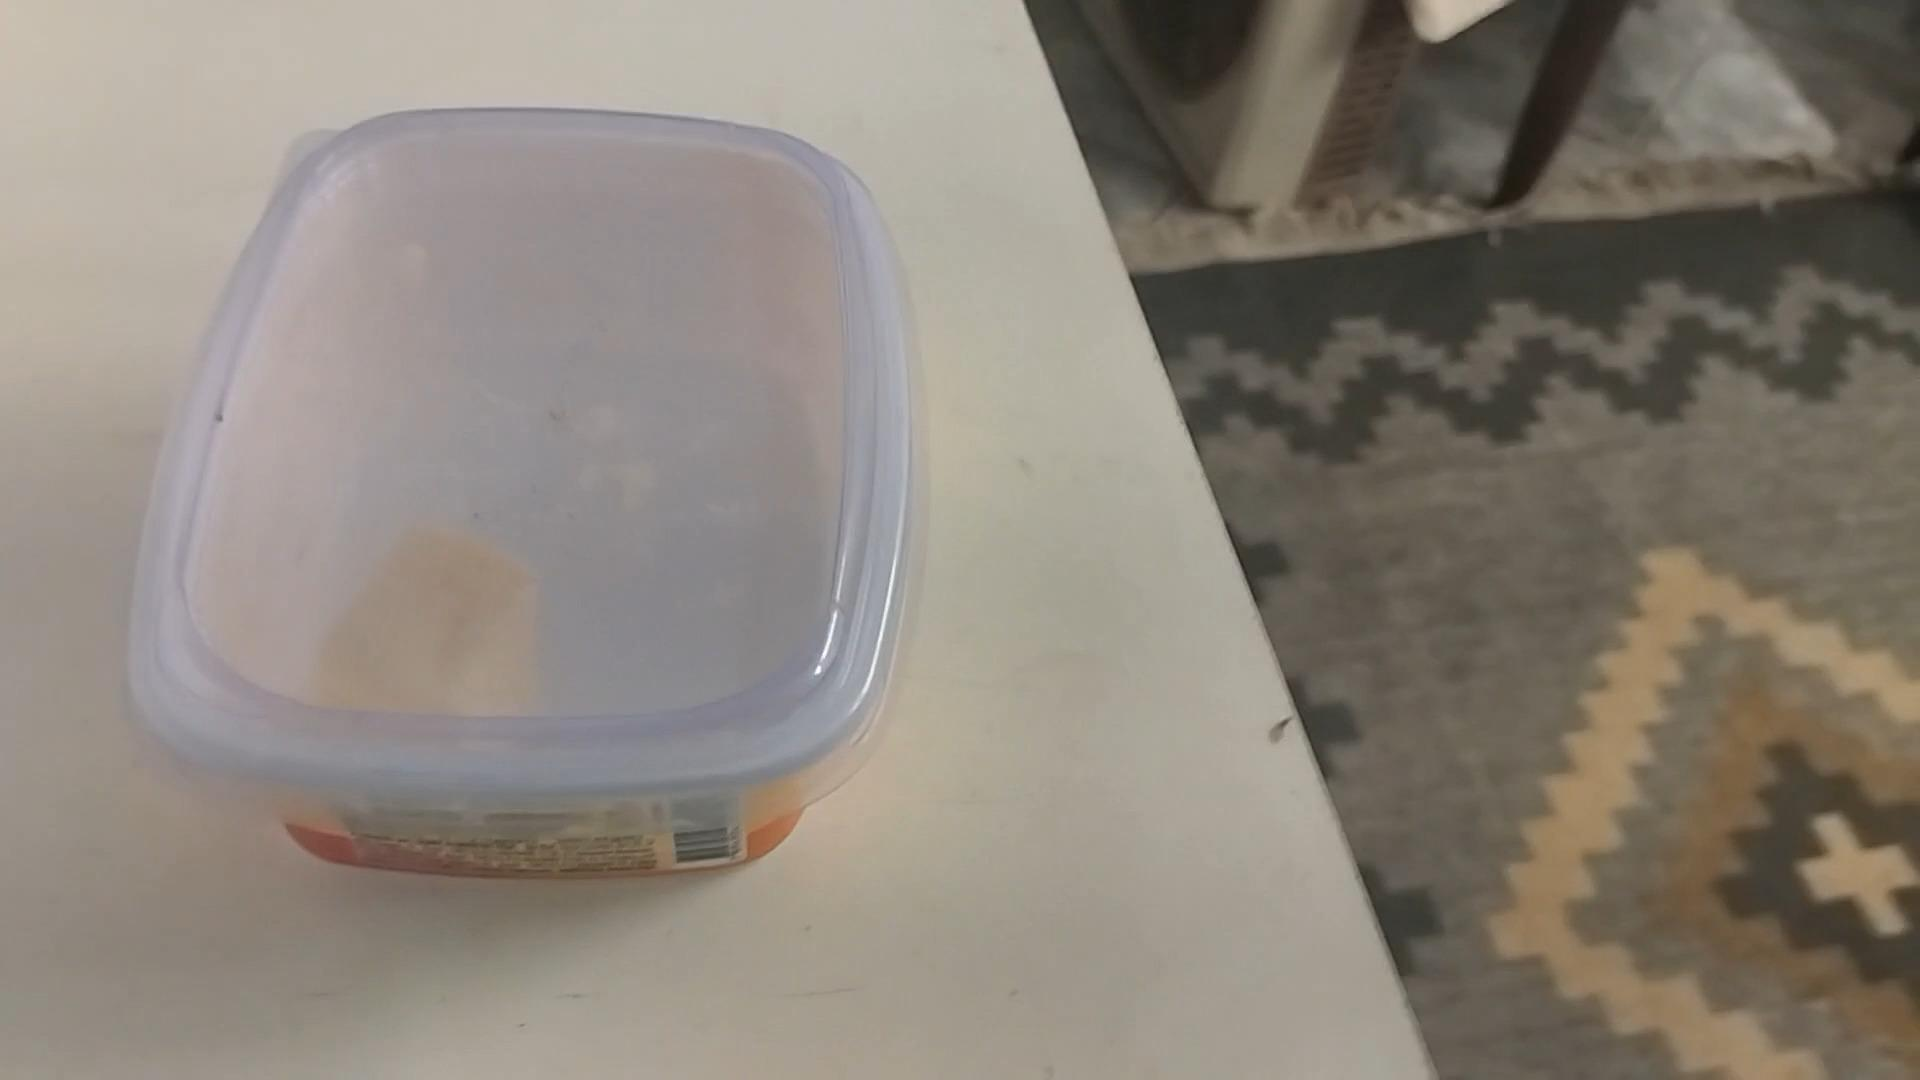butter: (132, 115, 910, 876)
